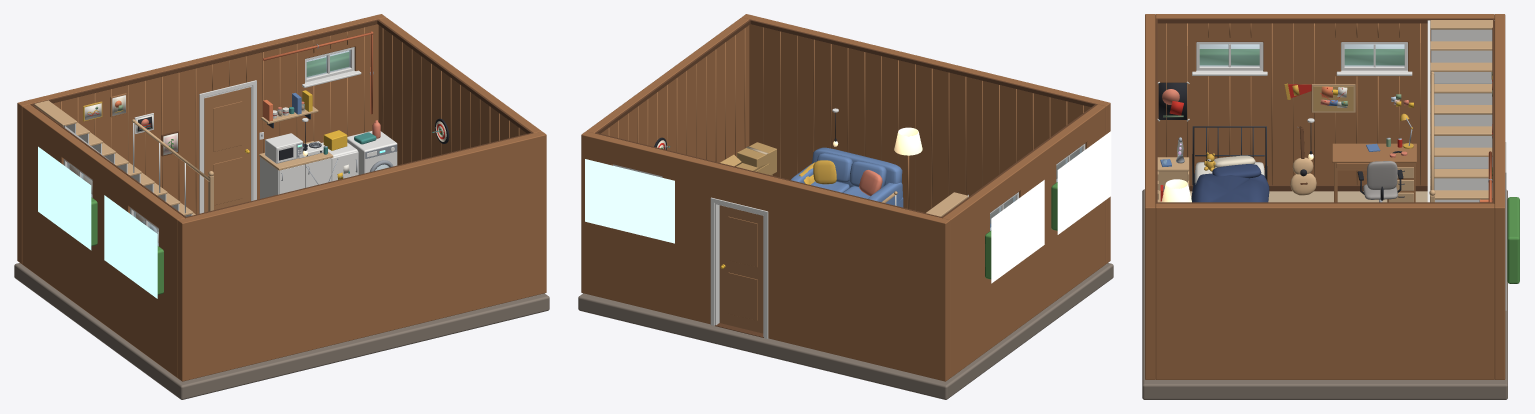
Rendered from tier0.glb.
3 renders of one model, left to right at view 1: azimuth 30°, elevation 25°; view 2: azimuth 150°, elevation 25°; view 3: azimuth 270°, elevation 25°, orthographic. The views are drawn at different scales.
Visible parts, largest first — view 1: wall_s, wall_n, wall_w, wall_e, slab, door_mesh, window_mesh, window_2_mesh, wall_n_trim, kitchenette_mesh, decor_n_mesh, stairs_mesh (+5 smaller); view 2: wall_n, wall_s, wall_w, wall_e, slab, door_mesh, window_3_mesh, wall_s_trim, window_2_mesh, window_mesh, couch_mesh, wall_e_trim (+4 smaller); view 3: wall_e, wall_w, stairs_mesh, slab, wall_n, computer_mesh, wall_w_trim, wall_s, bed_mesh, decor_w_mesh, window_2_mesh, window_mesh (+9 smaller).
Boxes of the visible parts, x1,y1,x2,y2 form: wall_s: (177, 131, 546, 381); wall_n: (17, 14, 385, 263); wall_w: (22, 104, 184, 377); wall_e: (378, 17, 541, 165); slab: (14, 263, 549, 399); door_mesh: (199, 80, 256, 213); window_mesh: (38, 146, 97, 250); window_2_mesh: (104, 195, 163, 298); wall_n_trim: (32, 19, 377, 231); kitchenette_mesh: (259, 133, 333, 198); decor_n_mesh: (83, 31, 373, 156); stairs_mesh: (34, 100, 213, 216); wall_n: (581, 131, 950, 381); wall_s: (742, 14, 1110, 263); wall_w: (943, 104, 1105, 377); wall_e: (586, 17, 749, 166); slab: (578, 263, 1113, 399); door_mesh: (710, 197, 768, 338); window_3_mesh: (585, 159, 674, 243); wall_s_trim: (750, 19, 1095, 210); window_2_mesh: (1051, 131, 1111, 234); window_mesh: (985, 180, 1044, 283); couch_mesh: (791, 147, 903, 207); wall_e_trim: (595, 19, 750, 166); wall_e: (1155, 203, 1494, 379); wall_w: (1155, 14, 1494, 185); stairs_mesh: (1427, 20, 1494, 202); slab: (1142, 189, 1507, 399); wall_n: (1494, 14, 1505, 379); computer_mesh: (1332, 113, 1416, 202); wall_w_trim: (1157, 18, 1492, 191); wall_s: (1145, 14, 1155, 379); bed_mesh: (1191, 126, 1269, 202); decor_w_mesh: (1157, 81, 1413, 121); window_2_mesh: (1192, 42, 1267, 75); window_mesh: (1336, 42, 1412, 75).
Size of the model in its own units: 6.76 by 3 by 5.36.
